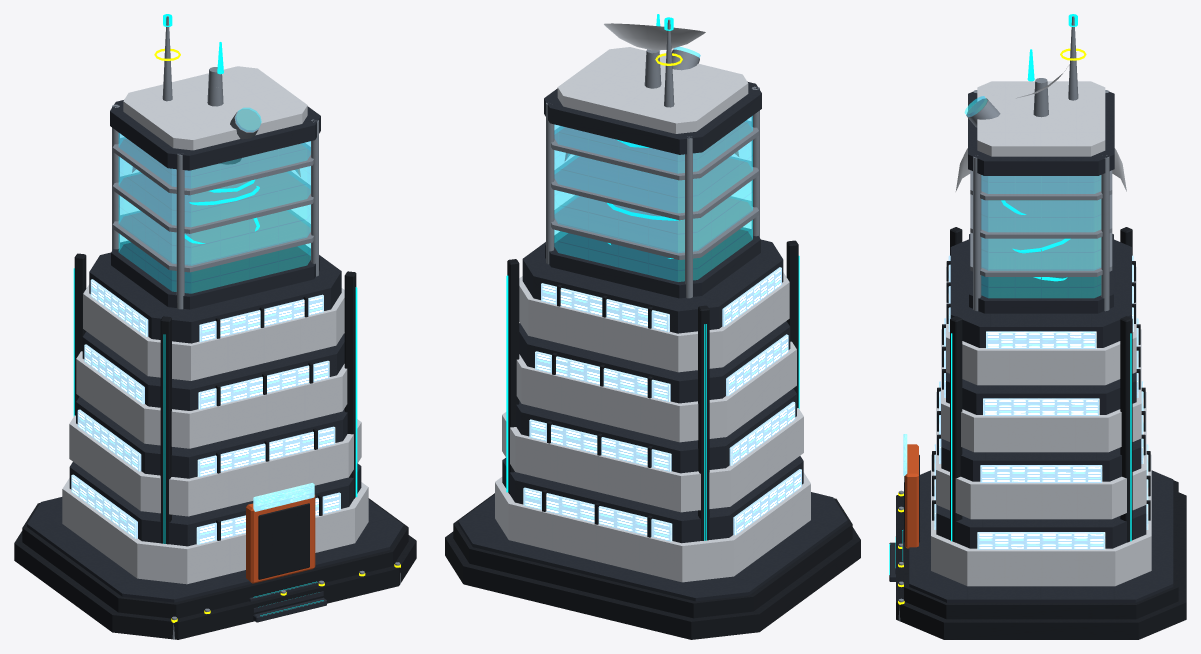
File: bldg_08_r1_01.glb
The picture shows the model from 3 angles, left to right: view 1: azimuth 30°, elevation 25°; view 2: azimuth 150°, elevation 25°; view 3: azimuth 270°, elevation 25°; orthographic projection. The views are drawn at different scales.
Parts seen in each view (by area): view 1: Bldg08_C01_aero_white, Bldg08_C01_carbon_slate, Bldg08_C01_gunmetal, Bldg08_C01_steel_machined, Bldg08_C01_glass_cyan, Bldg08_C01_window_lit, Bldg08_C01_led_cyan, Bldg08_C01_accent_orange, Bldg08_C01_marquee; view 2: Bldg08_C01_aero_white, Bldg08_C01_carbon_slate, Bldg08_C01_gunmetal, Bldg08_C01_steel_machined, Bldg08_C01_glass_cyan, Bldg08_C01_window_lit, Bldg08_C01_led_cyan; view 3: Bldg08_C01_aero_white, Bldg08_C01_carbon_slate, Bldg08_C01_gunmetal, Bldg08_C01_steel_machined, Bldg08_C01_glass_cyan, Bldg08_C01_window_lit, Bldg08_C01_led_cyan, Bldg08_C01_accent_orange.
Part boxes in pixels (left/top/right/bottom): Bldg08_C01_aero_white: left=62, top=66, right=368, bottom=584; Bldg08_C01_carbon_slate: left=27, top=100, right=403, bottom=622; Bldg08_C01_gunmetal: left=14, top=253, right=416, bottom=639; Bldg08_C01_steel_machined: left=112, top=16, right=400, bottom=639; Bldg08_C01_glass_cyan: left=118, top=107, right=310, bottom=293; Bldg08_C01_window_lit: left=71, top=279, right=340, bottom=544; Bldg08_C01_led_cyan: left=73, top=14, right=357, bottom=616; Bldg08_C01_accent_orange: left=246, top=495, right=315, bottom=583; Bldg08_C01_marquee: left=253, top=483, right=314, bottom=511; Bldg08_C01_aero_white: left=495, top=23, right=810, bottom=582; Bldg08_C01_carbon_slate: left=458, top=81, right=847, bottom=601; Bldg08_C01_gunmetal: left=445, top=240, right=860, bottom=639; Bldg08_C01_steel_machined: left=546, top=19, right=759, bottom=298; Bldg08_C01_glass_cyan: left=554, top=46, right=752, bottom=281; Bldg08_C01_window_lit: left=523, top=267, right=801, bottom=541; Bldg08_C01_led_cyan: left=506, top=14, right=799, bottom=540; Bldg08_C01_aero_white: left=931, top=61, right=1151, bottom=586; Bldg08_C01_carbon_slate: left=889, top=91, right=1173, bottom=602; Bldg08_C01_gunmetal: left=896, top=227, right=1186, bottom=639; Bldg08_C01_steel_machined: left=898, top=16, right=1112, bottom=621; Bldg08_C01_glass_cyan: left=964, top=96, right=1100, bottom=297; Bldg08_C01_window_lit: left=934, top=255, right=1148, bottom=549; Bldg08_C01_led_cyan: left=889, top=14, right=1131, bottom=574; Bldg08_C01_accent_orange: left=905, top=444, right=918, bottom=548.
Bounding box in the file's own units: 12 × 20.32 × 10.23.
10 materials, 10 textured.
